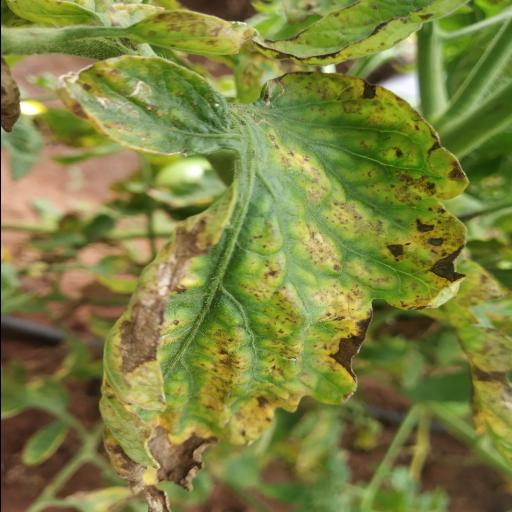Early Blight: (73, 58, 467, 512)
